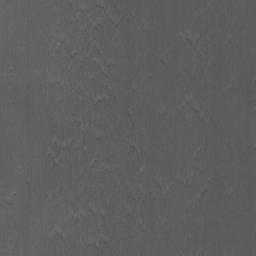Silk spot: (48, 140, 74, 167), (85, 237, 110, 256), (184, 38, 199, 49)
